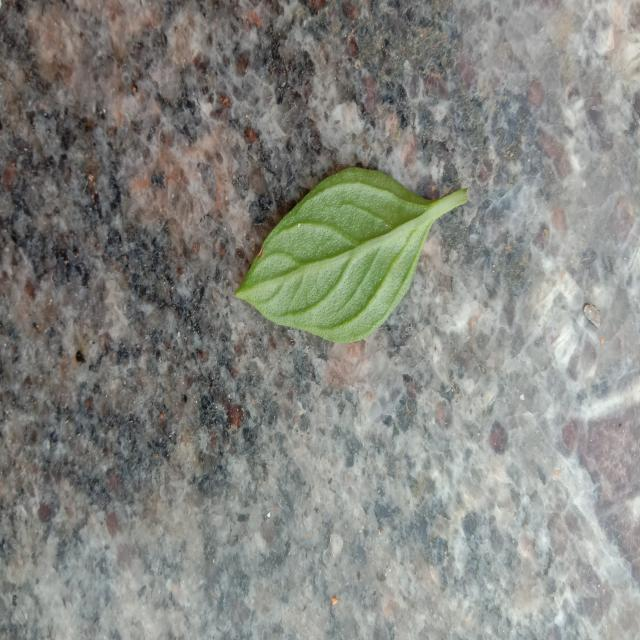kamakasturi: (235, 168, 468, 343)
